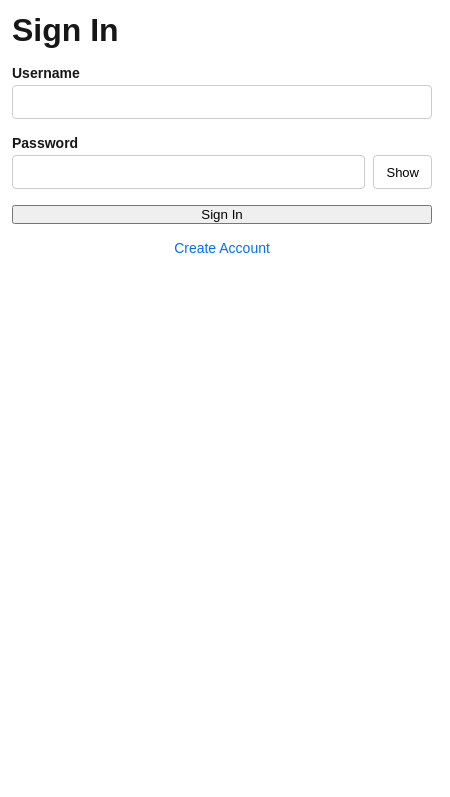
Scenario: AuthForm - create account mode › shows live feedback when passwords do not match
The width and height of the screenshot is (450, 797).
Click the button "Create Account" at (222, 248), box left=12, top=240, right=432, bottom=256
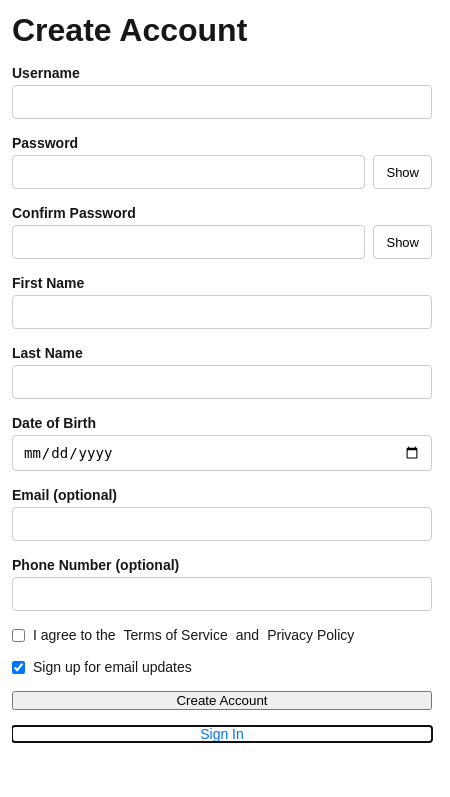
Type "sup3rSecret!" into the password field labelled "Password" at (189, 172), box left=12, top=155, right=366, bottom=189
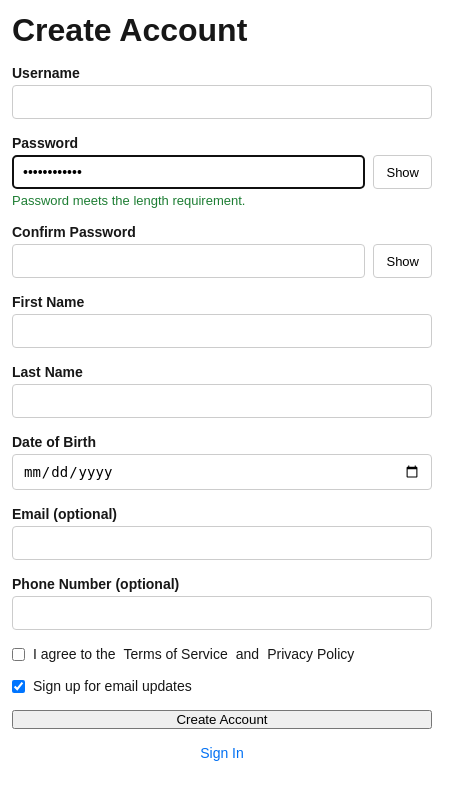
Type "different!" into the password field labelled "Confirm Password" at (189, 261), box left=12, top=244, right=366, bottom=278
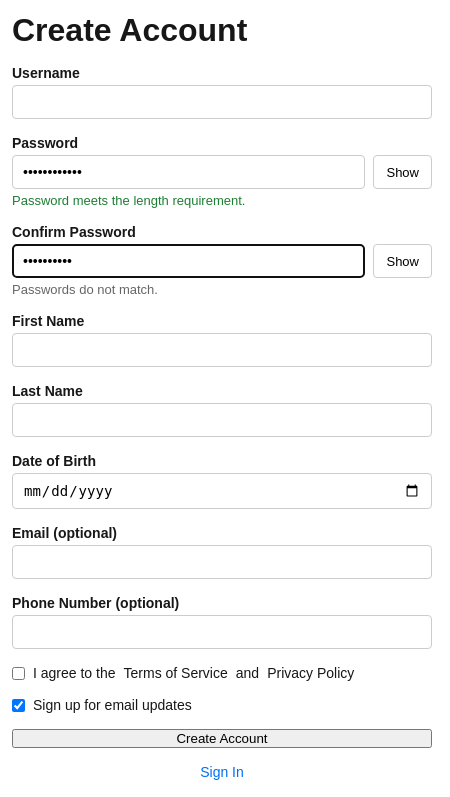
Now the text "Passwords do not match." is shown, box left=12, top=282, right=158, bottom=297
